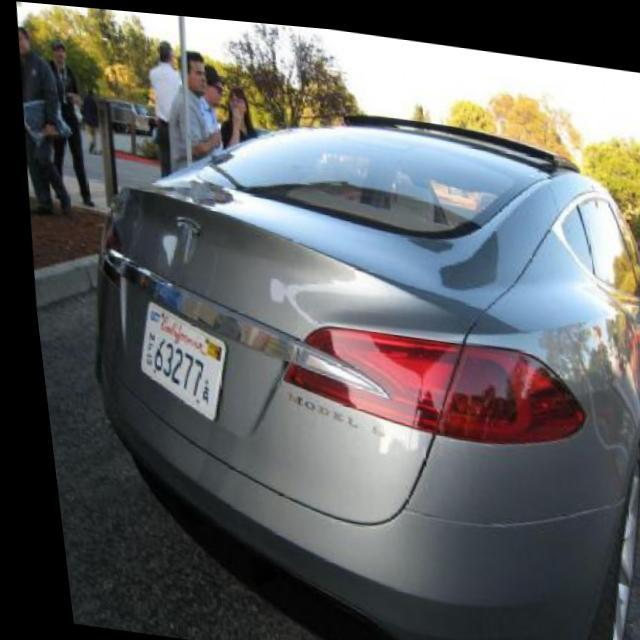license_plate: (124, 298, 226, 421)
